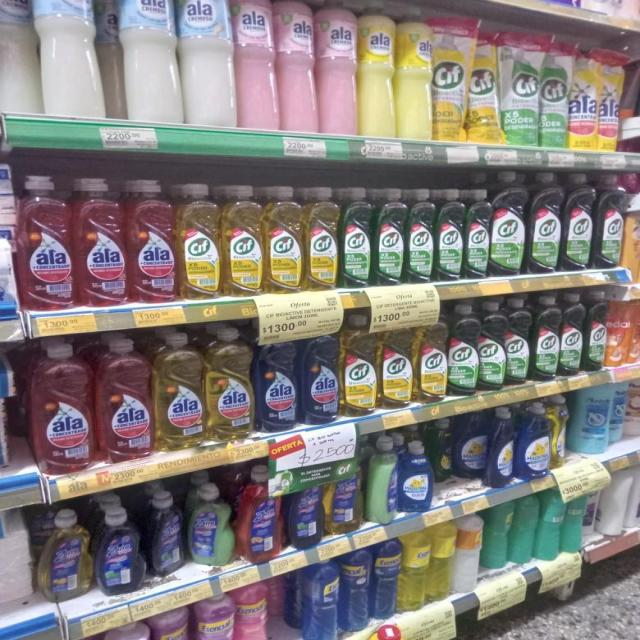ala_conc_amarillo: (154, 331, 204, 451), (206, 326, 253, 442)
ala_conc_azul: (256, 326, 298, 433), (301, 322, 339, 424)
ala_conc_rojo: (28, 342, 93, 475), (19, 174, 73, 313), (96, 337, 152, 461), (76, 176, 127, 308), (129, 178, 176, 304)
ala_crem_amarillo: (358, 1, 394, 139), (396, 5, 432, 140)
ala_crem_blanco: (34, 0, 102, 120), (113, 0, 176, 124), (179, 0, 233, 129), (0, 0, 35, 117)
ala_crem_rosado: (234, 0, 276, 132), (317, 0, 357, 137), (278, 0, 315, 134)
ala_sachet_amarillo: (570, 45, 598, 151), (598, 49, 622, 153)
cif_conc_bot_amarilla: (179, 182, 221, 300), (223, 185, 263, 298), (265, 185, 304, 294), (342, 311, 378, 418), (305, 186, 339, 292), (380, 313, 413, 409), (415, 306, 447, 404)
cif_conc_botella_verde: (491, 171, 526, 277), (528, 171, 562, 275), (340, 188, 372, 290), (374, 187, 405, 286), (564, 172, 593, 272), (448, 302, 478, 397), (595, 172, 623, 270), (406, 188, 434, 284), (436, 188, 464, 282), (464, 188, 490, 280), (479, 300, 505, 392), (532, 294, 559, 382), (506, 298, 530, 387), (560, 292, 584, 376), (585, 290, 606, 372)
cif_conc_sachet_amarillo: (433, 15, 466, 144), (468, 25, 500, 145)
cif_conc_sachet_verde: (501, 30, 539, 148), (540, 37, 568, 149)
magistral_con_azul: (367, 436, 398, 524), (517, 401, 550, 481), (400, 439, 432, 514), (454, 411, 486, 483), (488, 407, 515, 488)
zorro: (39, 508, 91, 602), (96, 507, 142, 596), (188, 483, 233, 567), (148, 490, 184, 578)
